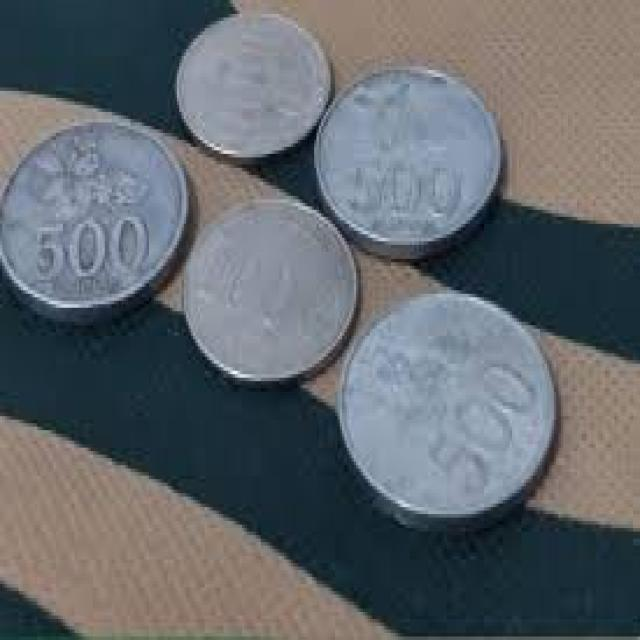coin_500_e2003: (339, 285, 563, 528), (2, 117, 188, 320), (312, 63, 501, 259)
